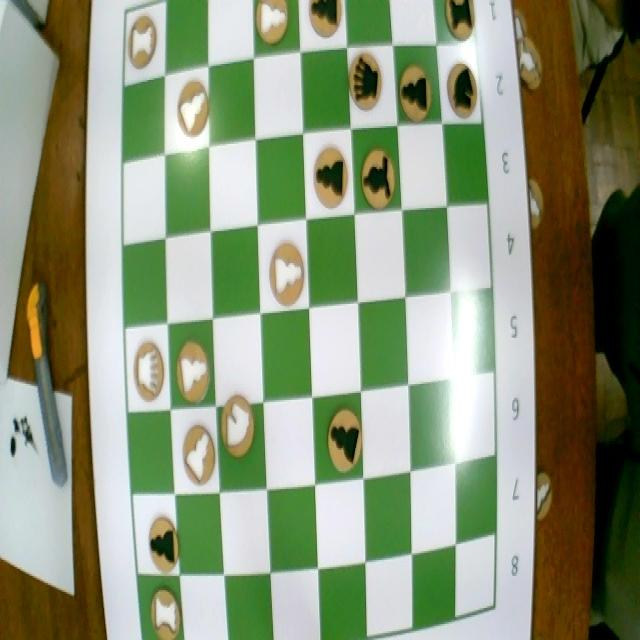chess-pieces: (262, 236, 308, 312), (346, 47, 390, 125), (322, 400, 363, 479), (308, 138, 350, 210), (396, 51, 437, 122), (175, 332, 213, 406), (179, 416, 218, 486), (143, 510, 184, 576), (357, 142, 396, 211), (130, 335, 166, 408), (173, 74, 211, 140), (445, 55, 482, 121), (222, 387, 257, 456), (298, 0, 344, 48), (254, 0, 295, 52), (146, 583, 182, 639), (126, 14, 160, 72), (440, 0, 476, 41)
